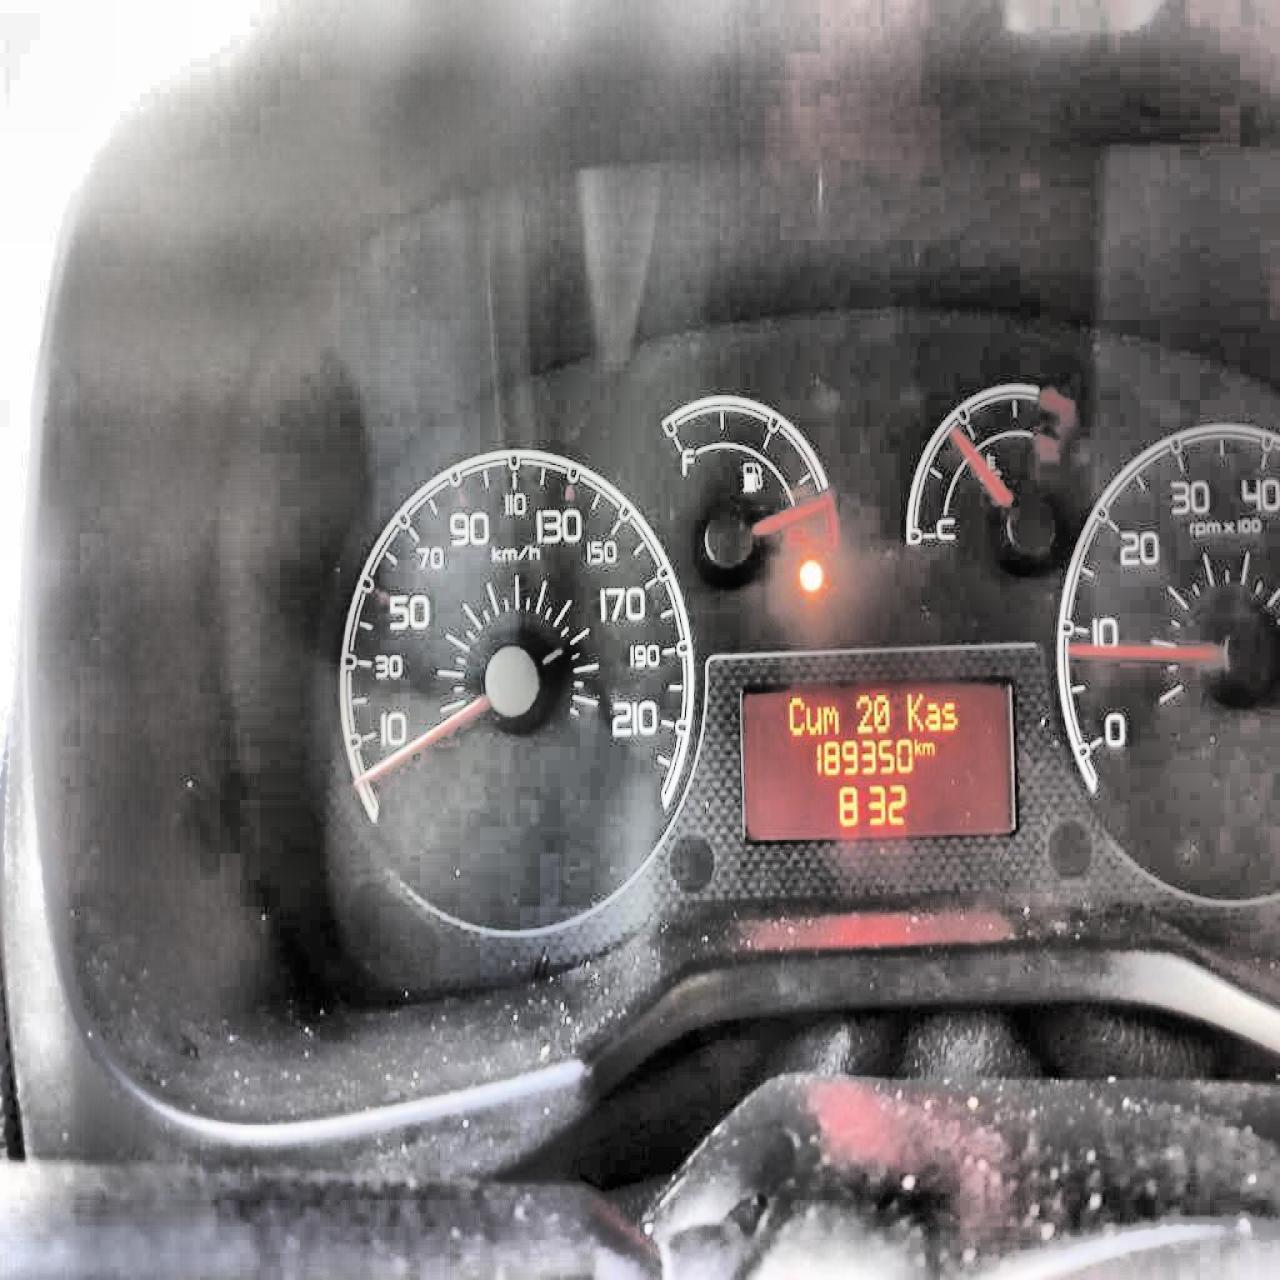0: (872, 692, 890, 734), (896, 737, 913, 774)
1: (813, 742, 822, 775)
2: (886, 782, 906, 825), (856, 693, 873, 731)
3: (866, 783, 885, 826), (859, 738, 877, 774)
5: (876, 737, 896, 774)
8: (837, 783, 858, 826), (823, 738, 838, 775)
9: (840, 738, 858, 775)
X: (905, 690, 924, 731), (788, 695, 805, 737), (821, 703, 839, 735), (940, 700, 958, 731), (805, 703, 821, 737), (924, 700, 940, 730), (920, 741, 935, 757), (912, 736, 921, 756)
odometer: (737, 675, 1017, 842)
